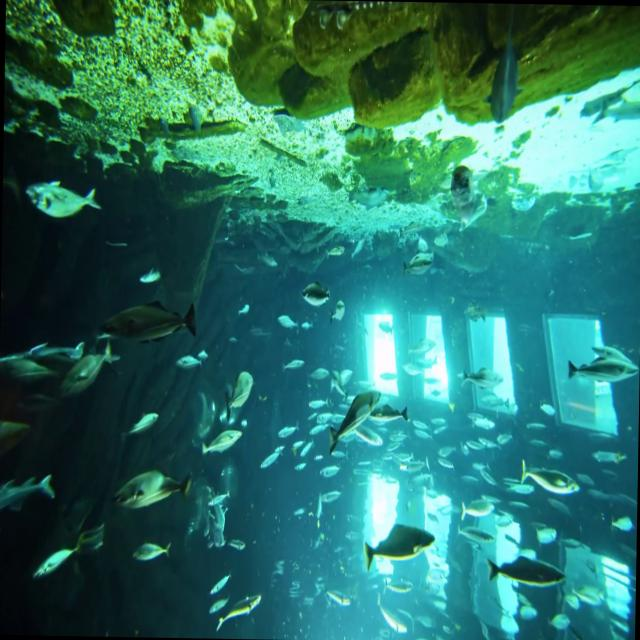fish: (92, 294, 200, 354), (16, 528, 88, 597), (484, 546, 569, 604), (320, 384, 382, 462), (22, 168, 104, 224), (110, 472, 198, 522), (360, 518, 440, 572), (0, 464, 64, 531), (53, 338, 115, 406), (564, 336, 640, 390), (518, 460, 584, 498), (212, 590, 266, 632), (454, 361, 514, 396), (196, 422, 244, 464), (370, 402, 412, 448), (458, 488, 503, 530), (456, 519, 504, 551), (130, 537, 172, 572), (300, 274, 332, 317), (256, 437, 284, 482), (326, 290, 352, 334), (206, 574, 230, 600), (272, 418, 300, 440), (204, 595, 228, 620), (276, 311, 300, 334), (224, 532, 250, 552), (281, 360, 301, 384)
